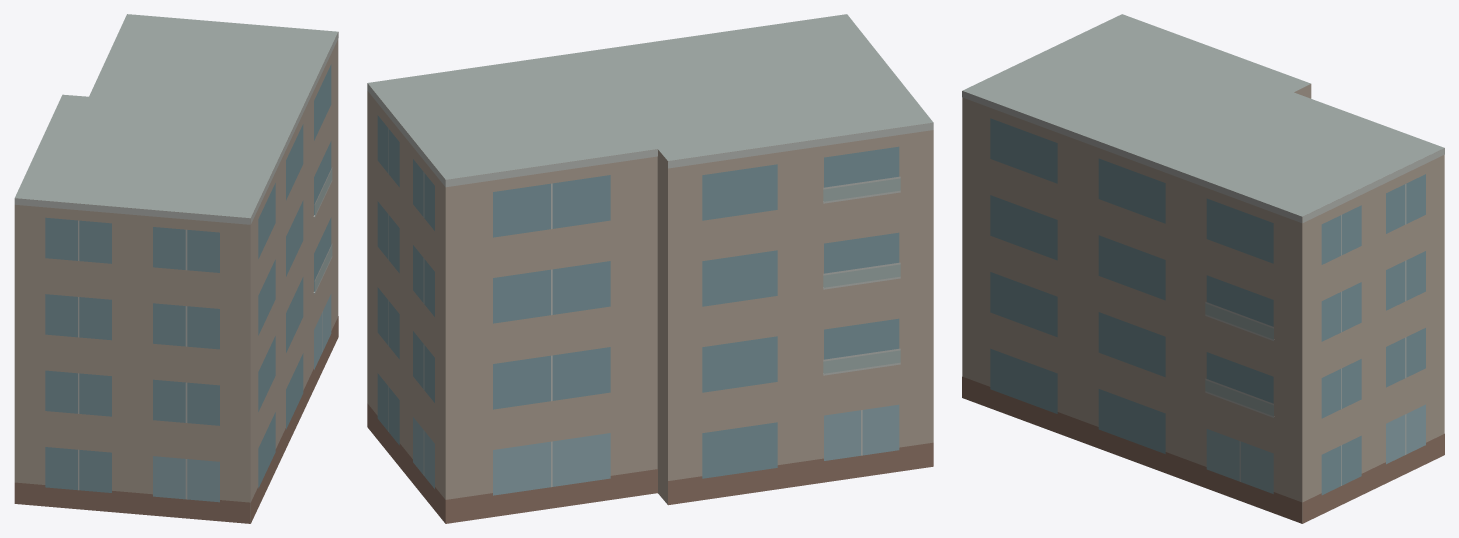
The model's file is survey-upis-32624273.glb.
3 renders of one model, left to right at view 1: azimuth 30°, elevation 25°; view 2: azimuth 150°, elevation 25°; view 3: azimuth 270°, elevation 25°, orthographic. The views are drawn at different scales.
Parts seen in each view (by area): view 1: survey-upis-32624273.tmp; view 2: survey-upis-32624273.tmp; view 3: survey-upis-32624273.tmp.
Part boxes in pixels (x1,y1,x2,y2): survey-upis-32624273.tmp: (14, 14, 338, 523); survey-upis-32624273.tmp: (367, 14, 933, 523); survey-upis-32624273.tmp: (962, 14, 1444, 523).
Bounding box in the file's own units: 16 × 11.3 × 16.1.
